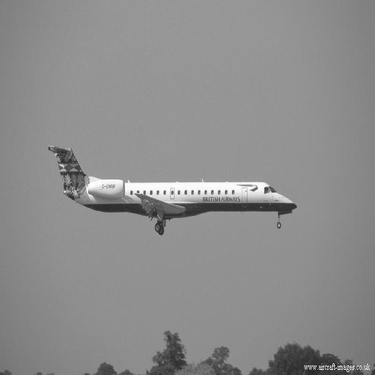airplane: (45, 139, 301, 242)
